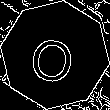O_N: (30, 26, 80, 84)
